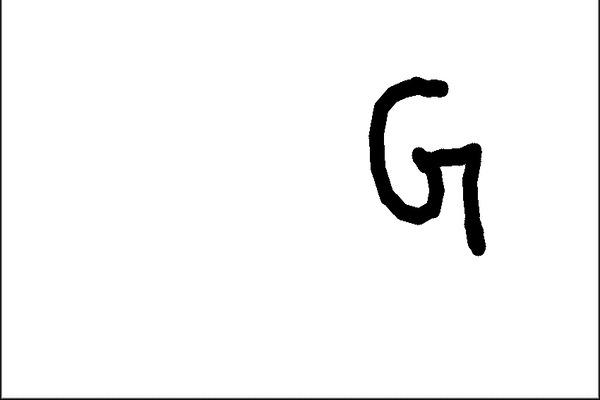G: (364, 72, 492, 259)
